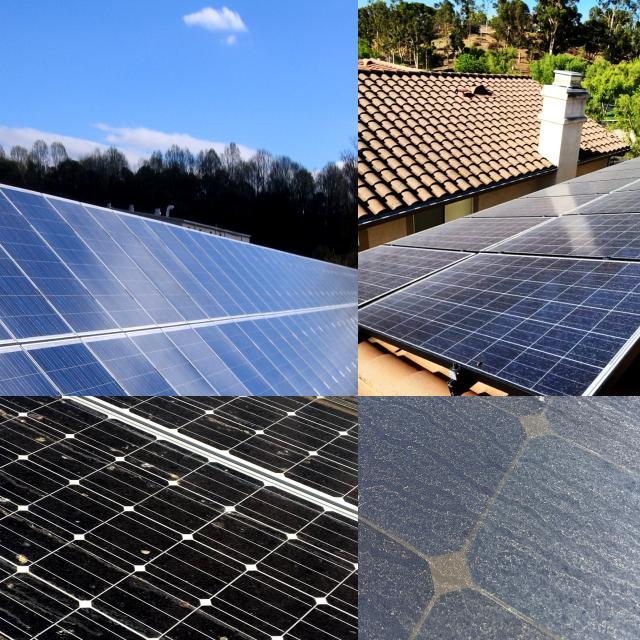bird: (3, 524, 51, 568), (0, 564, 31, 625), (44, 396, 111, 419)
crack: (0, 94, 142, 391), (0, 118, 131, 388), (0, 145, 156, 350), (0, 133, 123, 366), (0, 101, 88, 396), (94, 293, 314, 396), (66, 305, 283, 396), (25, 321, 264, 396)
dust: (521, 427, 640, 640), (358, 396, 484, 548), (358, 396, 543, 490), (388, 264, 629, 330), (358, 396, 417, 532), (358, 549, 442, 640), (445, 590, 556, 640), (568, 396, 640, 456)
